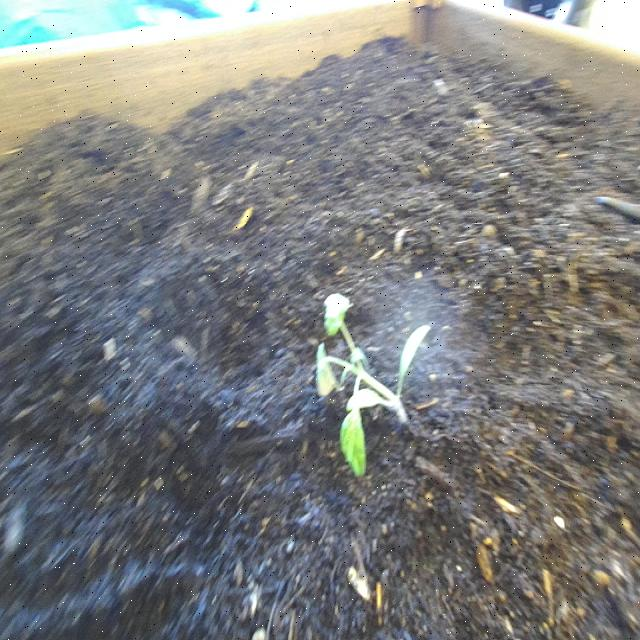Healthy: (312, 283, 436, 478)
